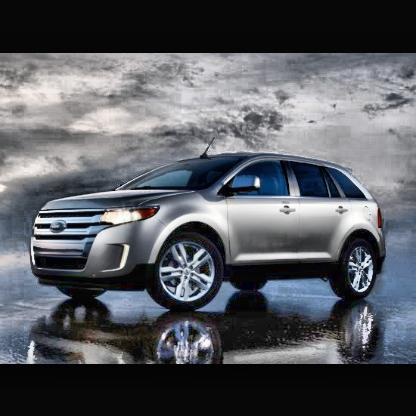Ford Edge SUV 2012: (31, 155, 388, 314)
